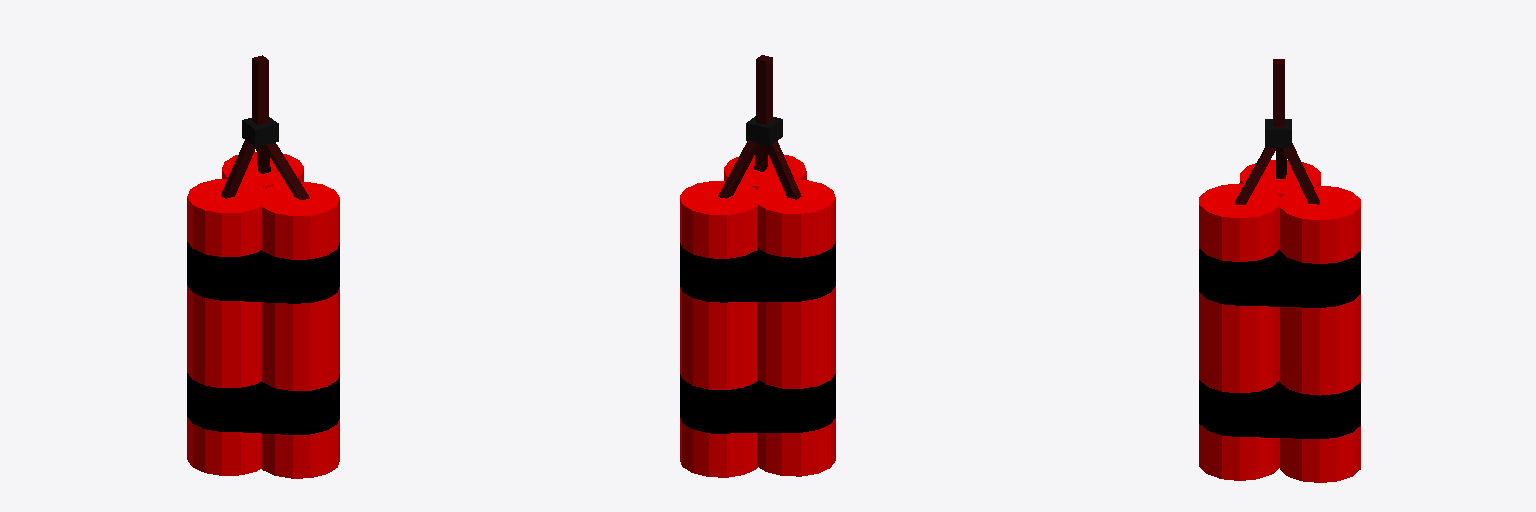
The model's file is dynamite.obj.
The picture shows the model from 3 angles: view 1: azimuth 30°, elevation 25°; view 2: azimuth 150°, elevation 25°; view 3: azimuth 270°, elevation 25°; orthographic projection.
Visible parts, largest first — view 1: group5 pasted__pCylinder1 group4 group, pCylinder1, pasted__pasted__pCylinder1 group5, pCube2, pCube3, pasted__pCube1 group2, pCube1; view 2: pCylinder1, pasted__pasted__pCylinder1 group5, group5 pasted__pCylinder1 group4 group, pCube2, pasted__pasted__pCube1 pasted__group2 group3, pCube1, pCube3; view 3: pasted__pasted__pCylinder1 group5, group5 pasted__pCylinder1 group4 group, pCylinder1, pCube2, pasted__pasted__pCube1 pasted__group2 group3, pasted__pCube1 group2, pCube3.
Boxes of the visible parts, <box> form: group5 pasted__pCylinder1 group4 group: <box>229,182,339,478</box>; pCylinder1: <box>187,179,269,475</box>; pasted__pasted__pCylinder1 group5: <box>222,152,303,188</box>; pCube2: <box>252,55,268,124</box>; pCube3: <box>242,117,278,146</box>; pasted__pCube1 group2: <box>263,142,309,199</box>; pCube1: <box>221,140,255,198</box>; pCylinder1: <box>731,180,835,476</box>; pasted__pasted__pCylinder1 group5: <box>680,181,761,477</box>; group5 pasted__pCylinder1 group4 group: <box>724,155,806,189</box>; pCube2: <box>756,55,772,124</box>; pasted__pasted__pCube1 pasted__group2 group3: <box>718,140,759,198</box>; pCube1: <box>765,141,801,199</box>; pCube3: <box>746,116,782,145</box>; pasted__pasted__pCylinder1 group5: <box>1231,185,1360,482</box>; group5 pasted__pCylinder1 group4 group: <box>1199,183,1279,480</box>; pCylinder1: <box>1240,160,1320,197</box>; pCube2: <box>1273,59,1284,126</box>; pasted__pasted__pCube1 pasted__group2 group3: <box>1283,143,1319,204</box>; pasted__pCube1 group2: <box>1235,148,1276,204</box>; pCube3: <box>1265,119,1291,147</box>.
Size of the model in its own units: 0.9435 by 2.81 by 1.04.